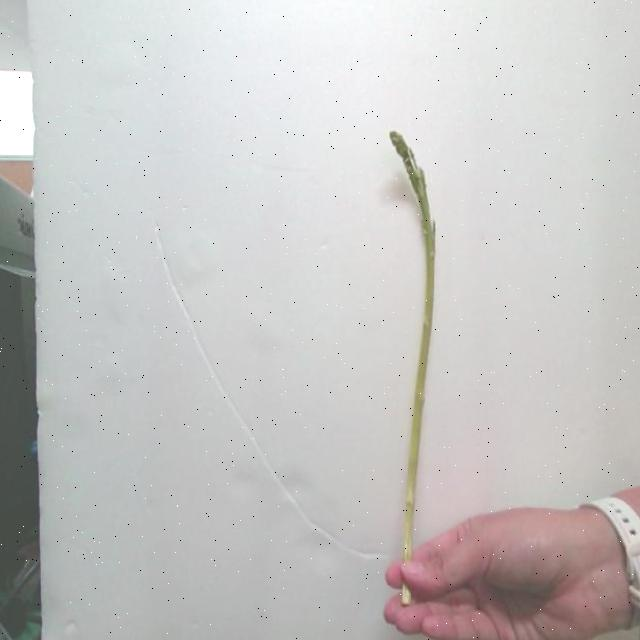aspargus: (392, 133, 441, 559)
